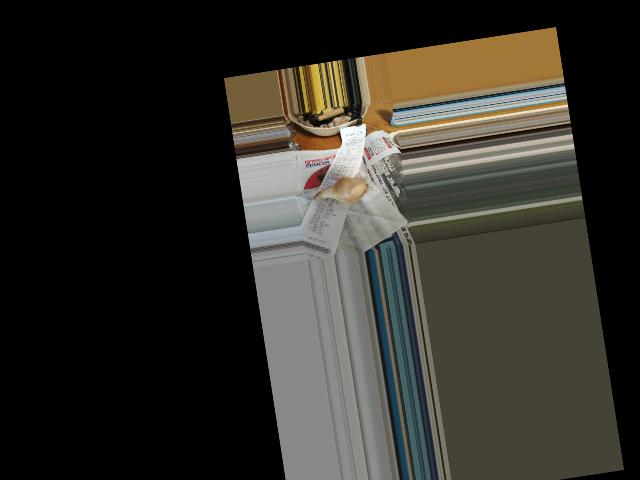onion: (324, 176, 368, 204)
